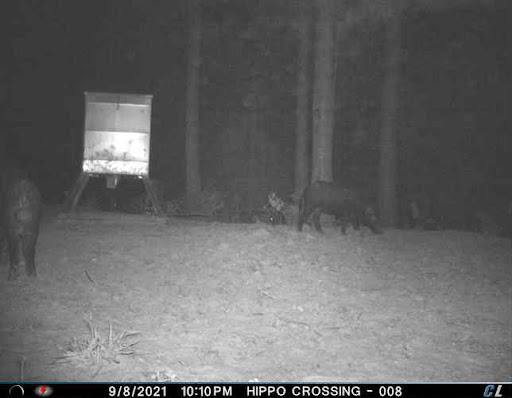Hog: (296, 172, 386, 239), (0, 174, 43, 284)
